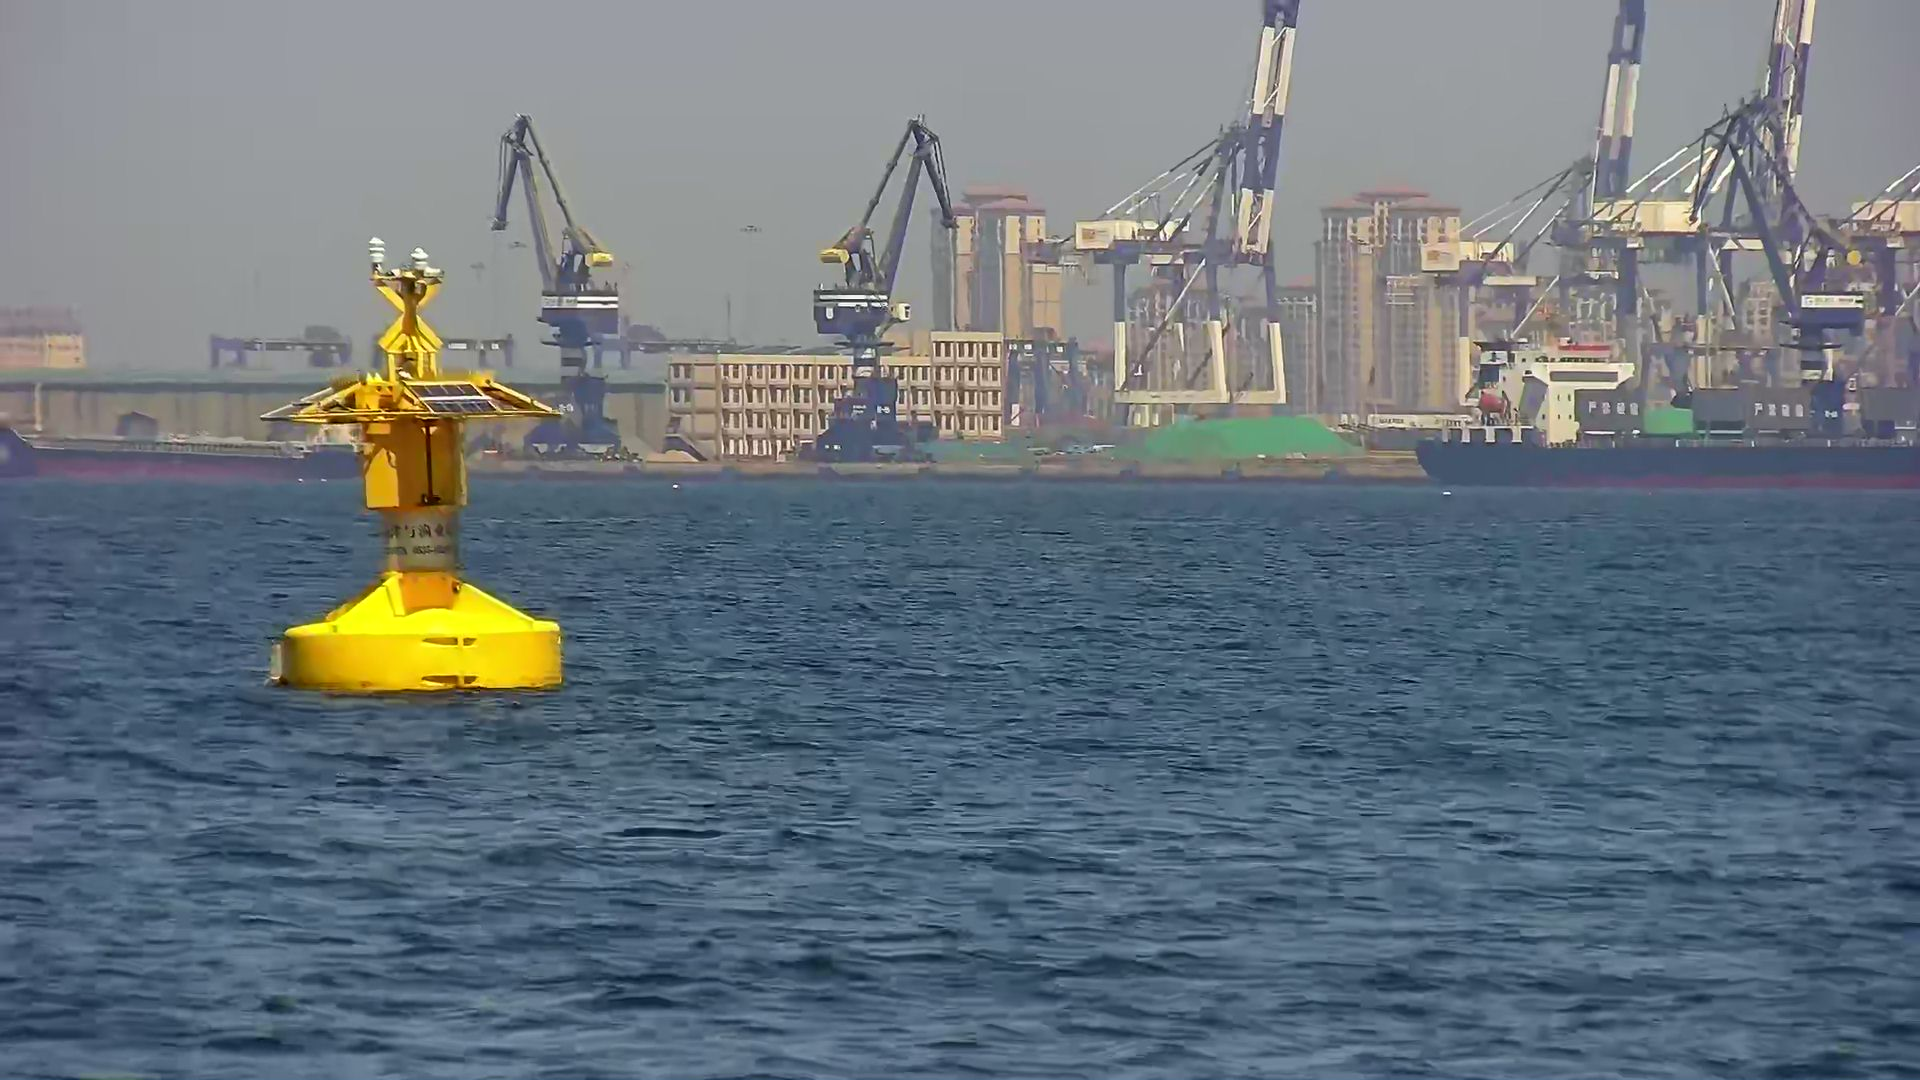buoy: (268, 237, 566, 692)
ship: (1416, 343, 1920, 488)
